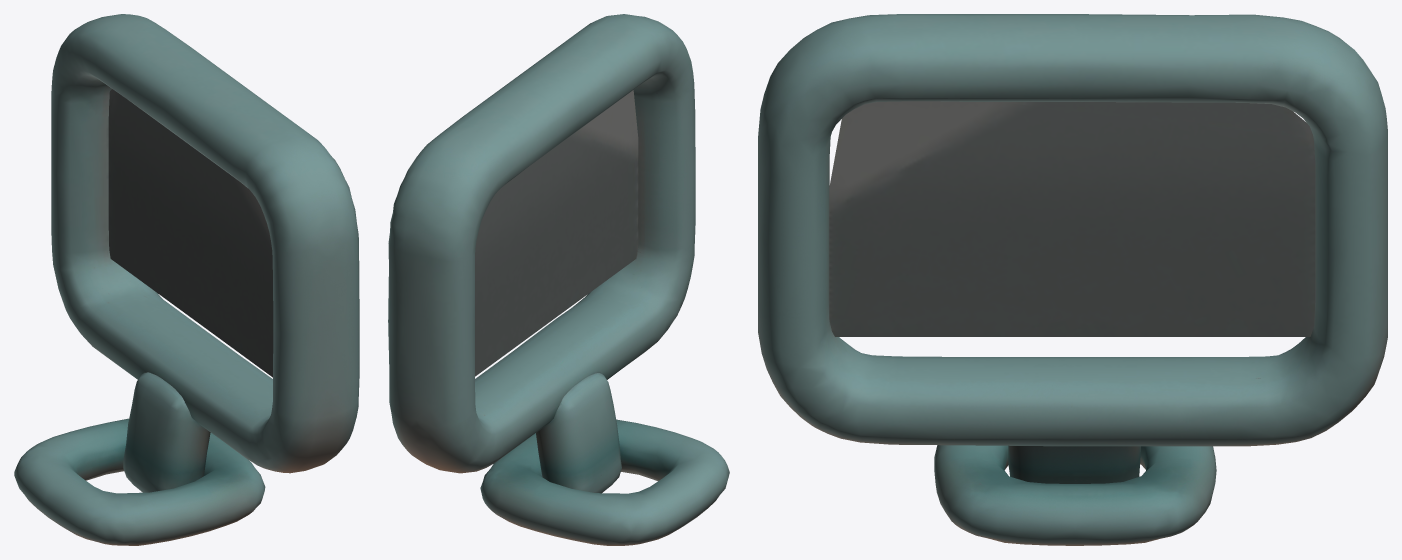
File: icon-monitor.glb
3 renders of one model, left to right at view 1: azimuth 30°, elevation 25°; view 2: azimuth 150°, elevation 25°; view 3: azimuth 270°, elevation 25°, orthographic. The views are drawn at different scales.
Parts seen in each view (by area): view 1: tripo_node_kodyurd-model-55____________________; view 2: tripo_node_kodyurd-model-55____________________; view 3: tripo_node_kodyurd-model-55____________________.
Part boxes in pixels (box(x1,y1,x2,y2)): tripo_node_kodyurd-model-55____________________: box(14, 14, 359, 545); tripo_node_kodyurd-model-55____________________: box(388, 14, 729, 545); tripo_node_kodyurd-model-55____________________: box(758, 14, 1387, 545).
Size of the model in its own units: 0.4629 by 0.8965 by 0.998.
1 material, 1 textured.
